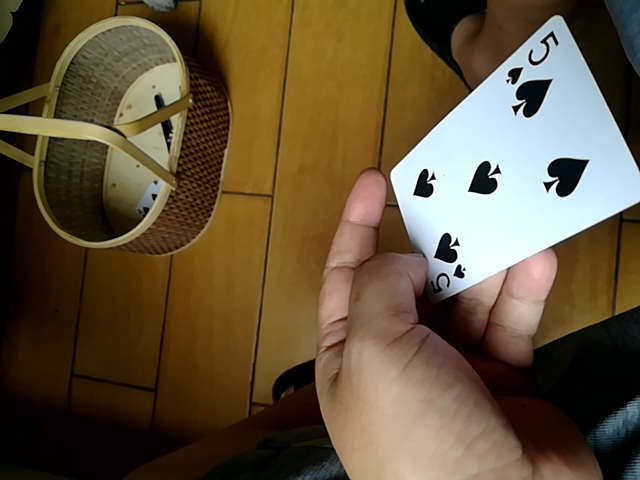ht 5: (386, 19, 639, 301)
